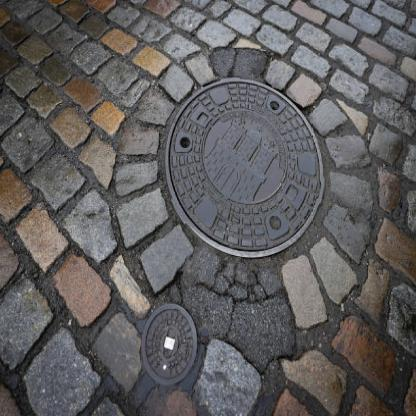manholes: (150, 62, 360, 282)
